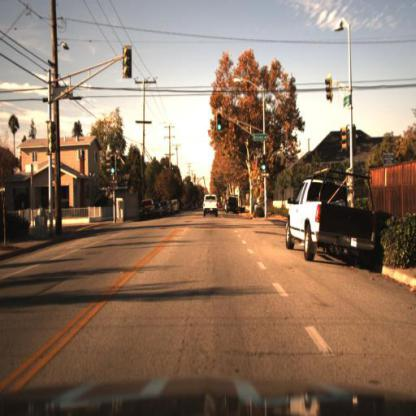car: (280, 160, 383, 280), (200, 187, 220, 225), (139, 197, 157, 223), (224, 195, 242, 217), (165, 199, 172, 221), (157, 201, 165, 219), (174, 195, 180, 216)
trafficLight-Green: (109, 159, 118, 181), (261, 153, 269, 176), (216, 119, 225, 137), (260, 160, 268, 172)
